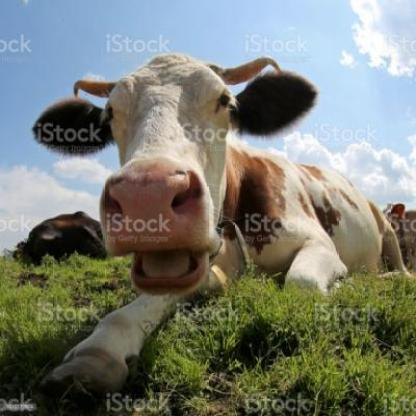lower: (151, 283, 186, 290)
mouth: (100, 165, 214, 298)
upper: (130, 185, 157, 213)
